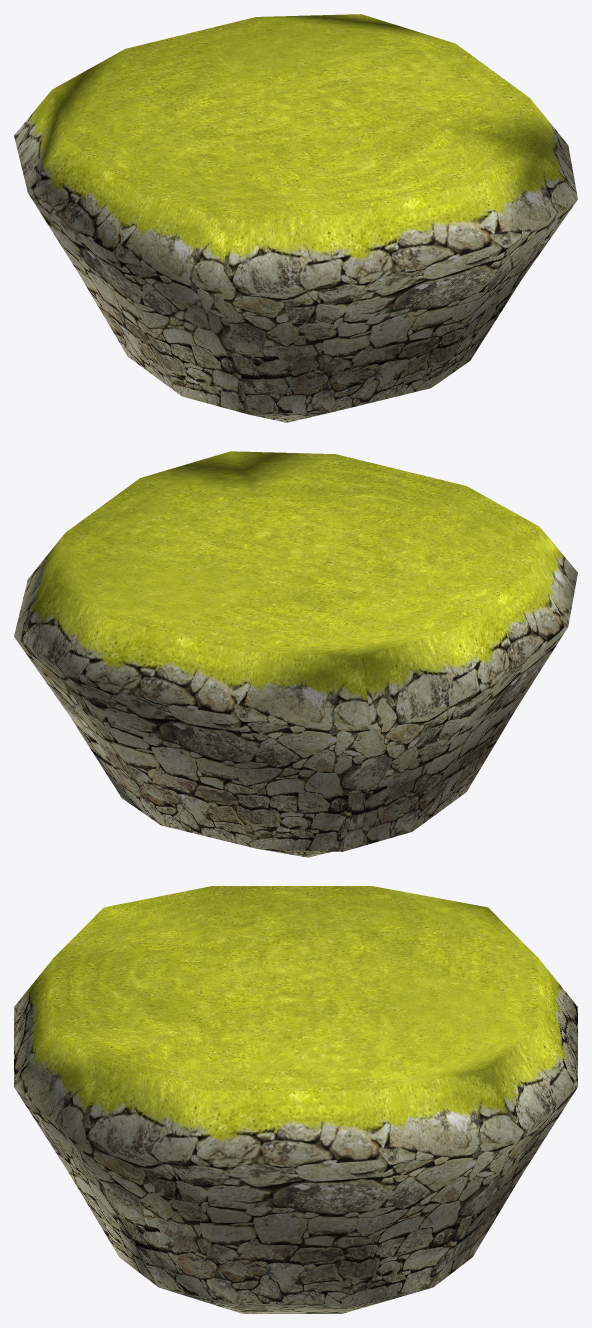
The model's file is Floating_Platform_01.fbx.
3 renders of one model, top to bottom at view 1: azimuth 30°, elevation 25°; view 2: azimuth 150°, elevation 25°; view 3: azimuth 270°, elevation 25°, orthographic. The views are drawn at different scales.
Visible parts, largest first — view 1: bigCubeReference_polySurface1; view 2: bigCubeReference_polySurface1; view 3: bigCubeReference_polySurface1.
Boxes of the visible parts, bbox=[...] form: bigCubeReference_polySurface1: bbox=[14, 14, 577, 422]; bigCubeReference_polySurface1: bbox=[14, 451, 577, 857]; bigCubeReference_polySurface1: bbox=[14, 886, 577, 1313].
Size of the model in its own units: 11 by 6.65 by 11.
Materials: 1 (1 with a texture image).
